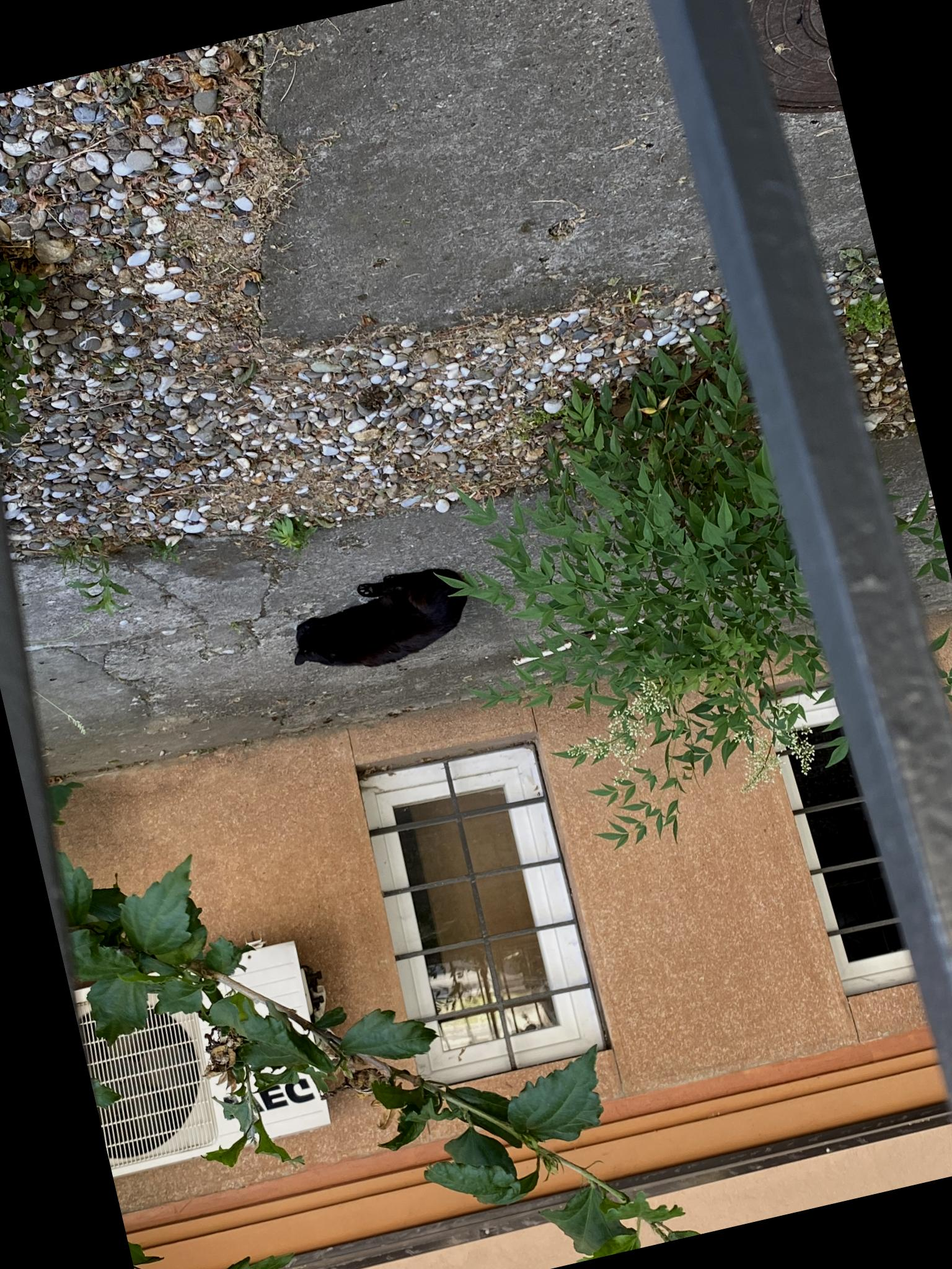macka: (280, 559, 478, 684)
